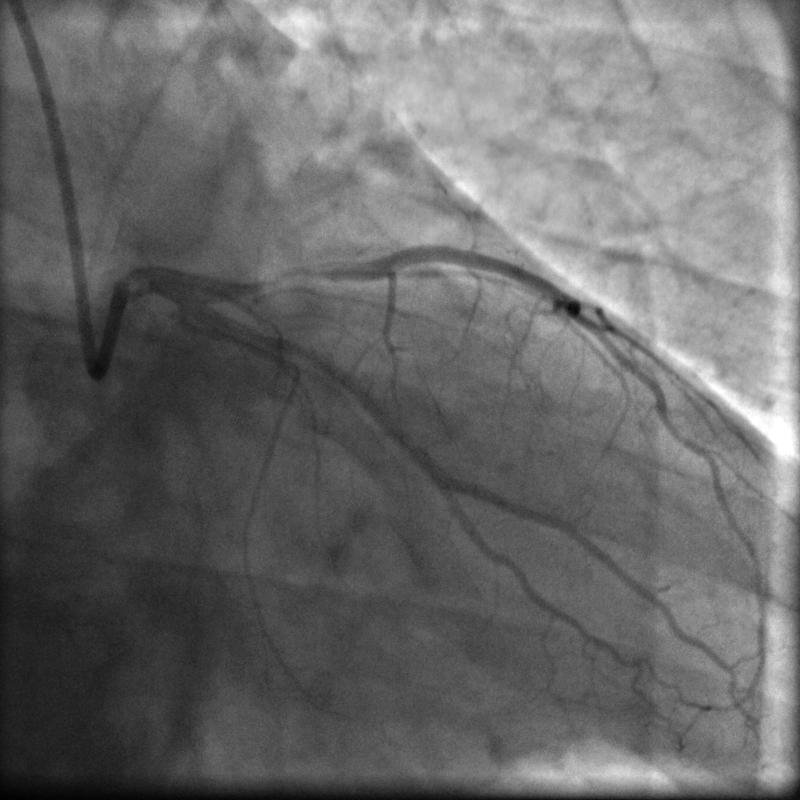Stenosis: (249, 263, 335, 290)
